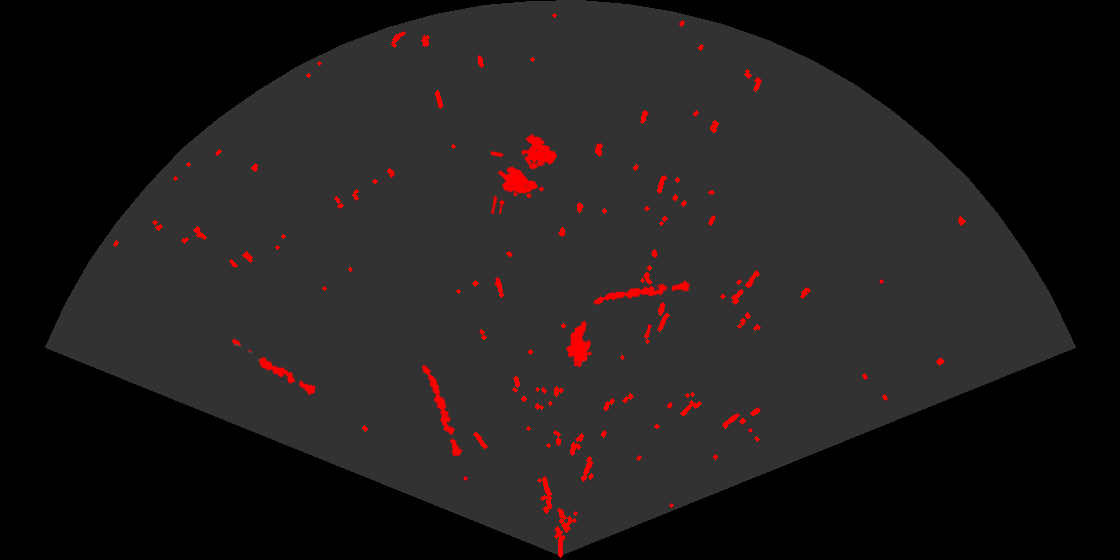AUV: (565, 319, 593, 369)
cage: (491, 132, 559, 214)
chain: (230, 337, 318, 397), (420, 363, 464, 458), (592, 279, 691, 306)
